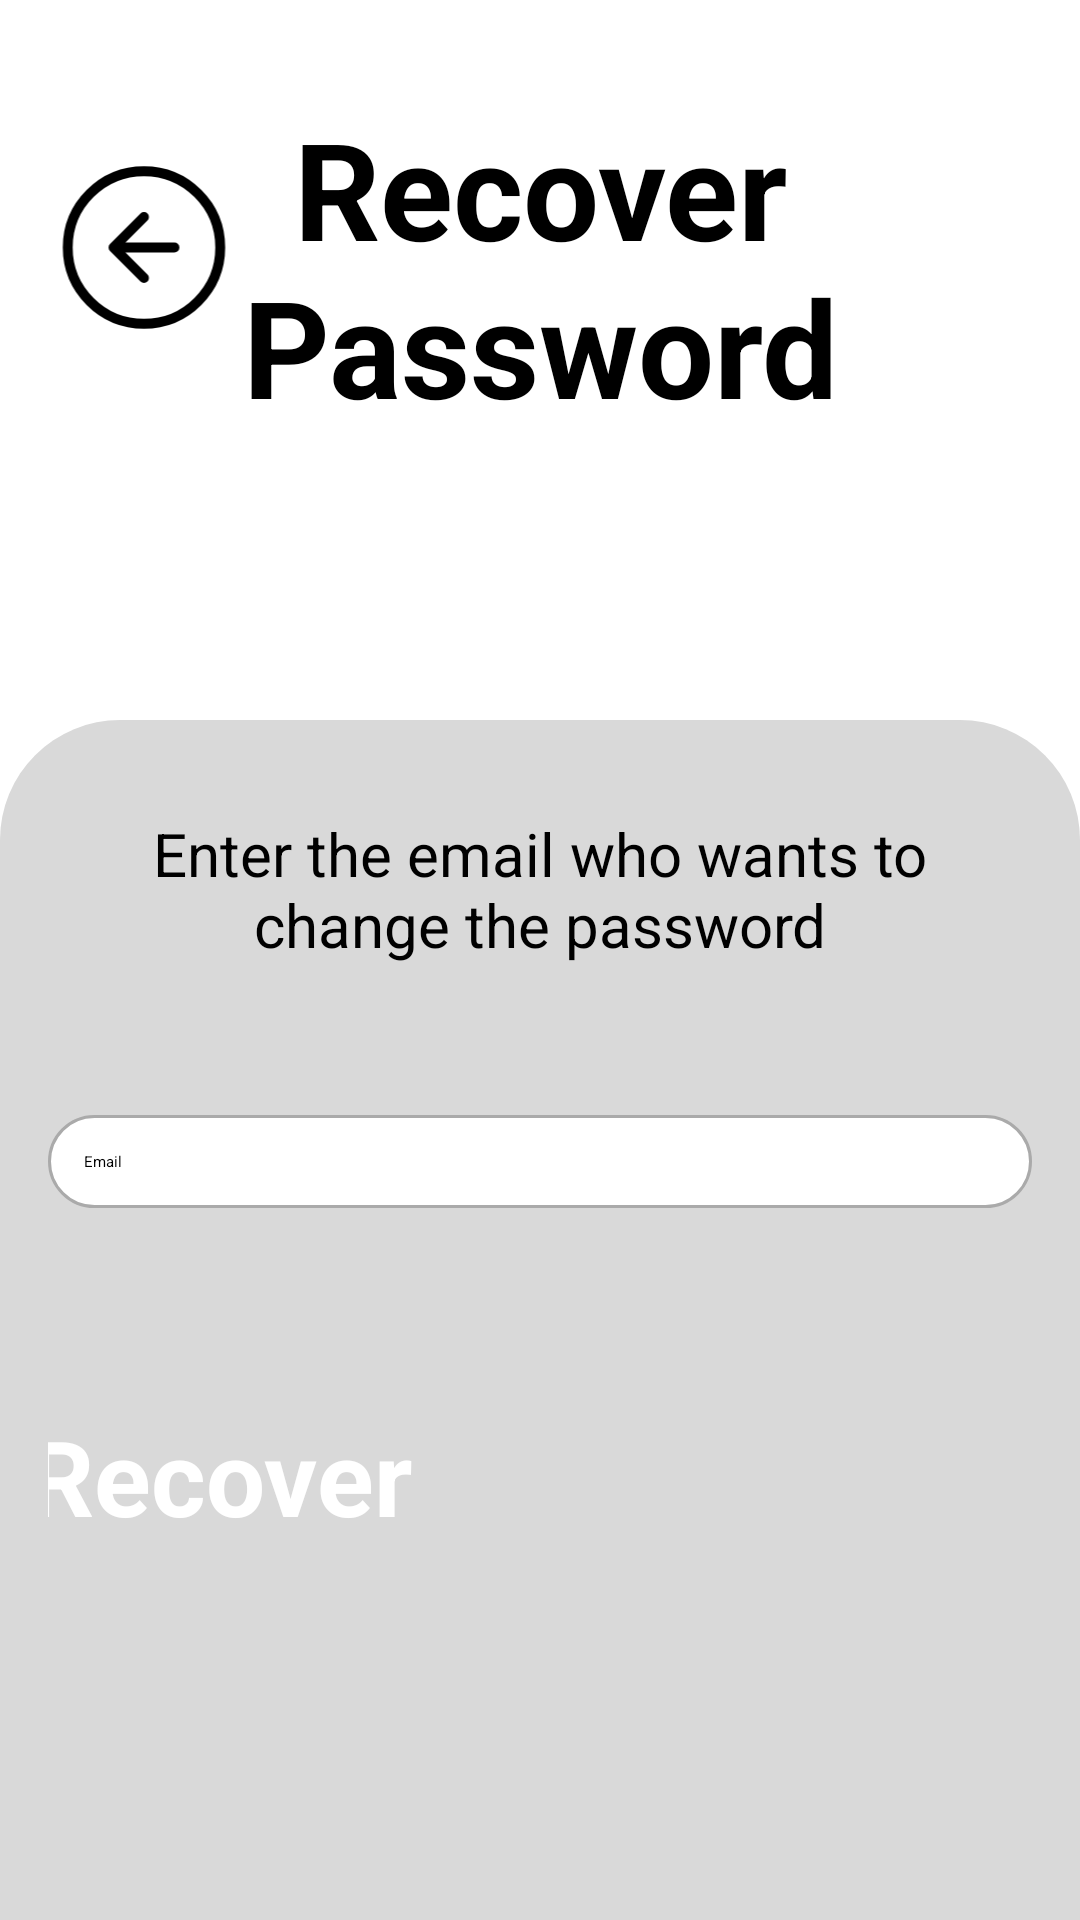

Where icons sit on this 1080 x 1920 app screen, as (x1, y1, x2, y2):
backbutton: (62, 166, 226, 329)
